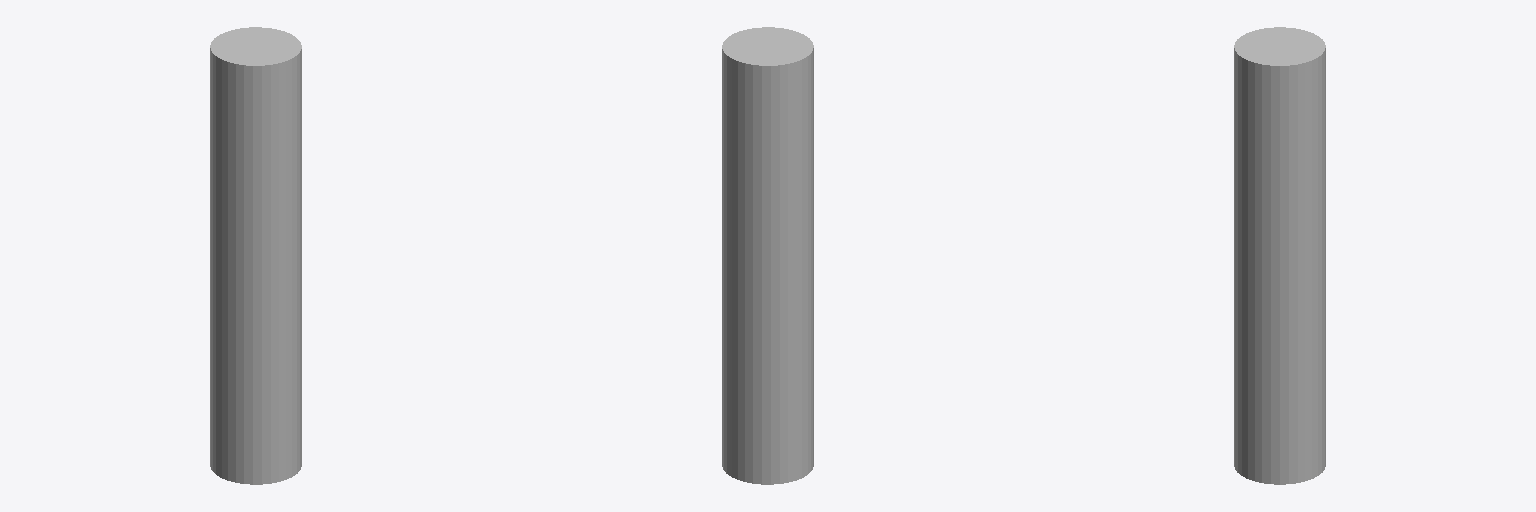
File: pumpOutAir.obj
The picture shows the model from 3 angles: view 1: azimuth 30°, elevation 25°; view 2: azimuth 150°, elevation 25°; view 3: azimuth 270°, elevation 25°; orthographic projection.
Visible parts, largest first — view 1: 柱体.059; view 2: 柱体.059; view 3: 柱体.059.
Part boxes in pixels (x1,y1,x2,y2): 柱体.059: (210,27,301,484); 柱体.059: (722,27,813,484); 柱体.059: (1234,27,1325,484).
Bounding box in the file's own units: 0.5 × 2.52 × 0.5.